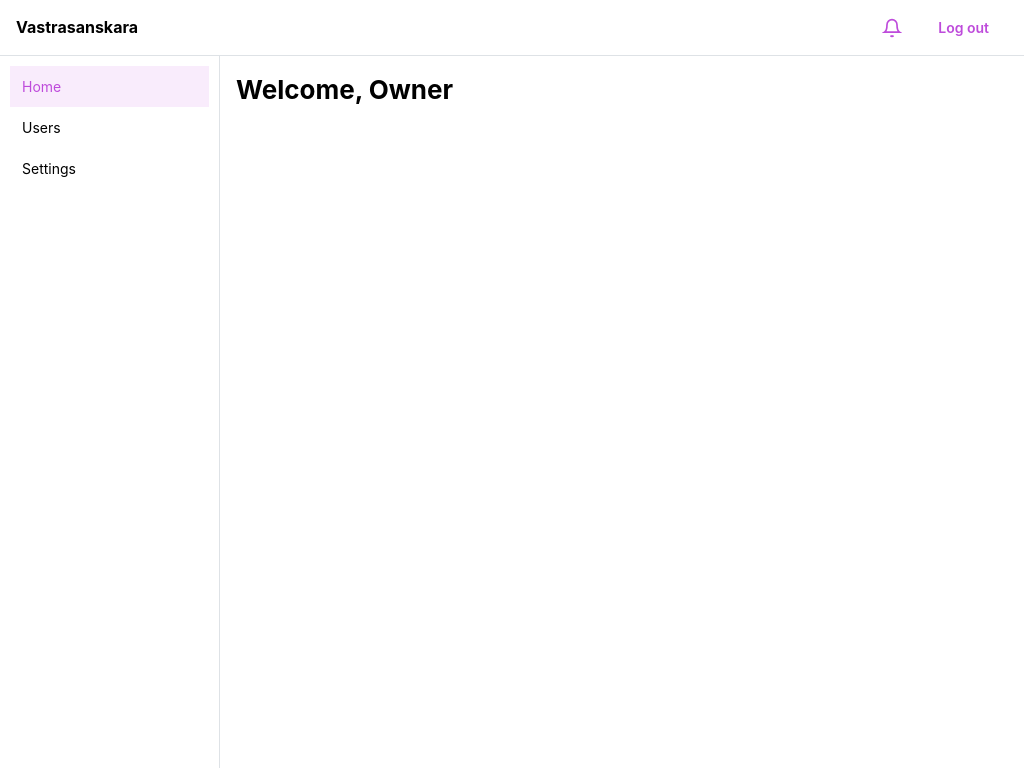
Scenario: logout returns to the login page
This screenshot has width=1024, height=768.
Click the button "Log out" at (964, 28), box [919,10,1008,46]
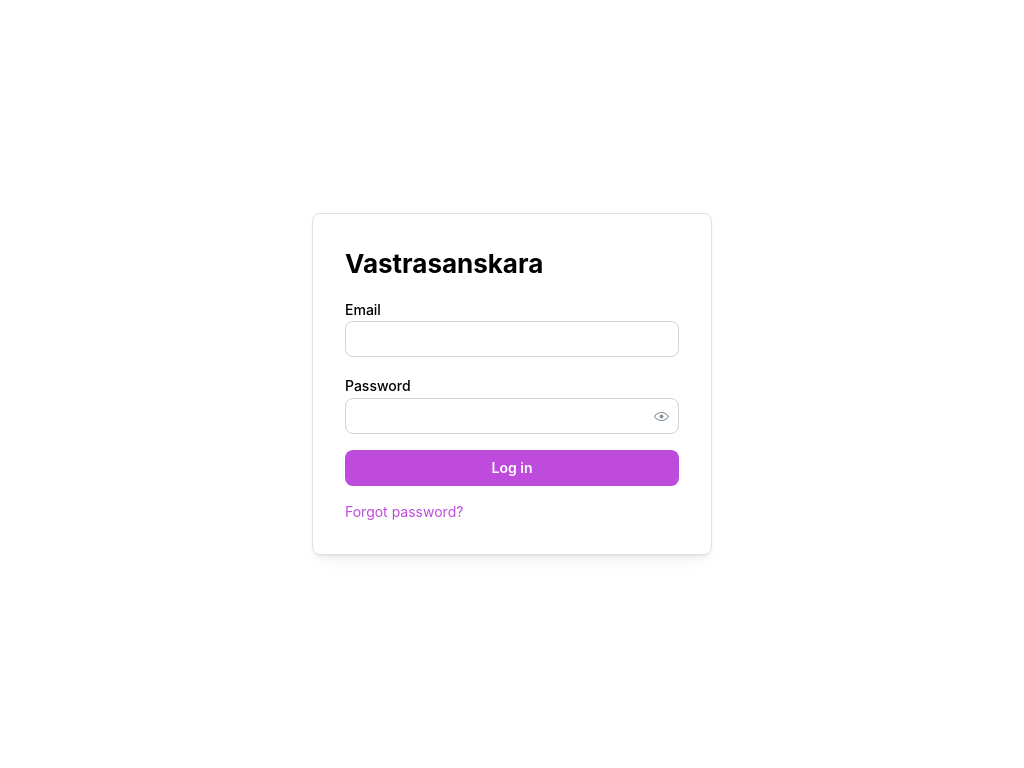
Now the button "Log in" is shown, box [345,450,679,486]
